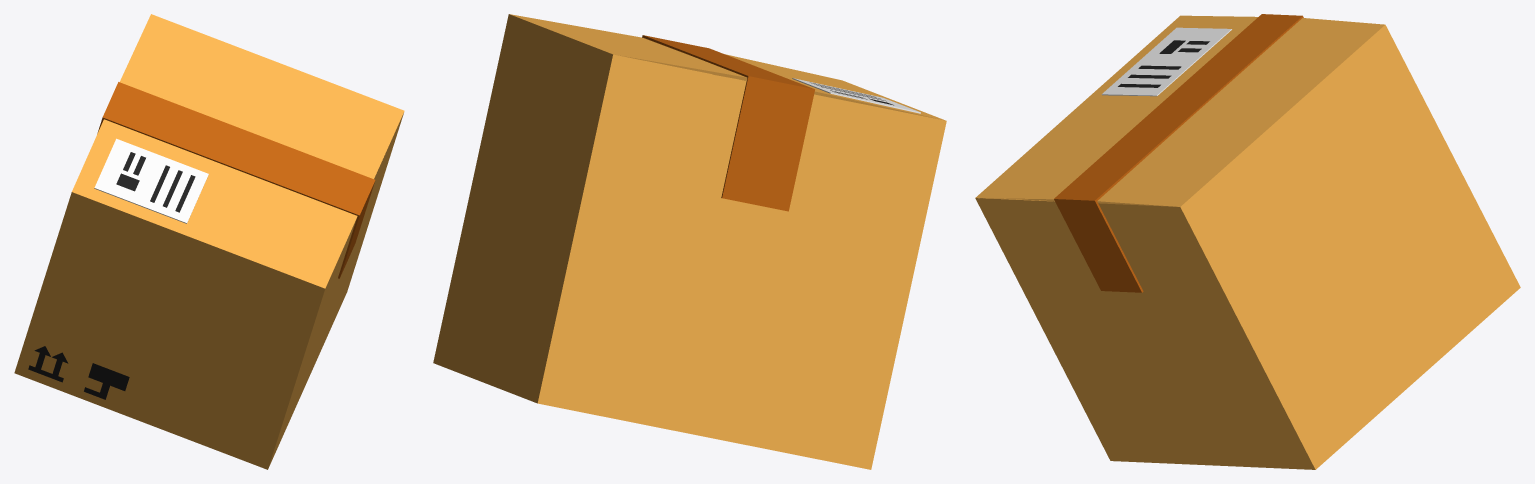
File: package.glb
The picture shows the model from 3 angles, left to right: view 1: azimuth 30°, elevation 25°; view 2: azimuth 150°, elevation 25°; view 3: azimuth 270°, elevation 25°; orthographic projection. The views are drawn at different scales.
Visible parts, largest first — view 1: Cube.969; view 2: Cube.969; view 3: Cube.969.
Boxes of the visible parts, <box> form: Cube.969: <box>14,14,404,469</box>; Cube.969: <box>433,14,946,469</box>; Cube.969: <box>975,14,1520,469</box>.
Bounding box in the file's own units: 2.04 × 2.17 × 2.45.
1 material, 1 textured.
